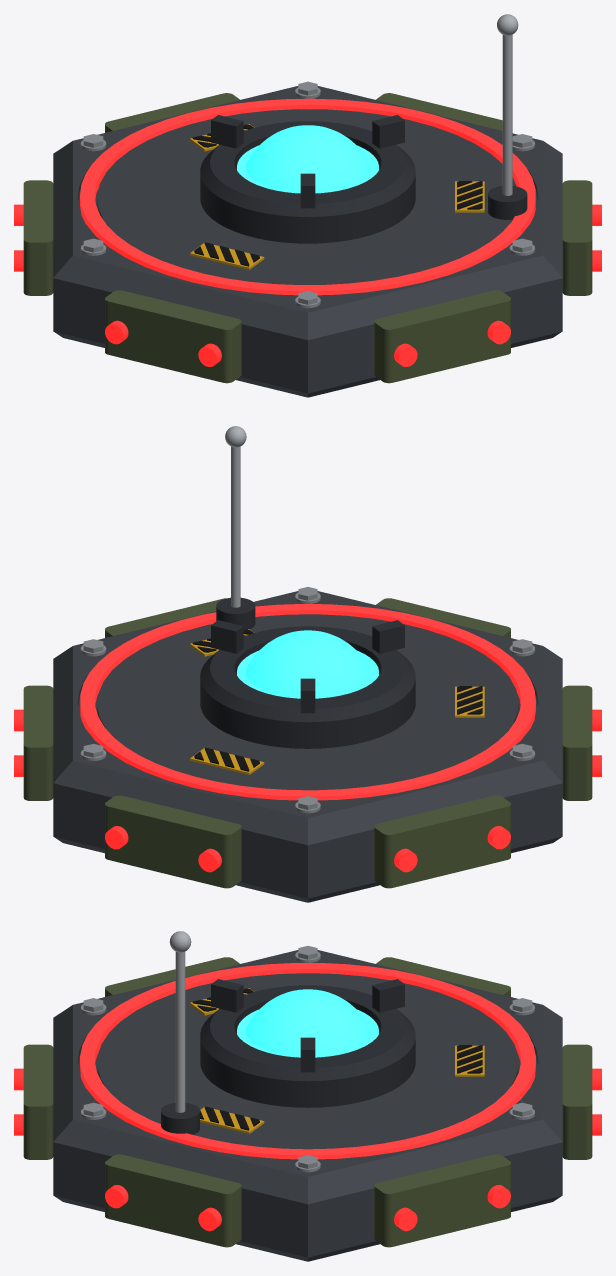
The model's file is gad_decoy.glb.
The picture shows the model from 3 angles, top to bottom: view 1: azimuth 30°, elevation 25°; view 2: azimuth 150°, elevation 25°; view 3: azimuth 270°, elevation 25°; orthographic projection.
Parts seen in each view (by area): view 1: hex_casing, explosive_charges, projector_hub, warning_ring, projector_lens, detonator_caps, bolts, antenna, hazard_decal_stripes, hazard_decals, antenna_base; view 2: hex_casing, explosive_charges, projector_hub, warning_ring, projector_lens, detonator_caps, bolts, antenna, hazard_decal_stripes, hazard_decals, antenna_base; view 3: hex_casing, explosive_charges, projector_hub, warning_ring, projector_lens, detonator_caps, bolts, antenna, hazard_decal_stripes, hazard_decals, antenna_base.
Part boxes in pixels (left/top/right/bottom): hex_casing: left=53, top=86, right=562, bottom=397; explosive_charges: left=23, top=93, right=592, bottom=383; projector_hub: left=200, top=115, right=415, bottom=243; warning_ring: left=80, top=98, right=535, bottom=295; projector_lens: left=237, top=125, right=378, bottom=193; detonator_caps: left=14, top=204, right=601, bottom=366; bolts: left=80, top=81, right=535, bottom=308; antenna: left=497, top=14, right=518, bottom=195; hazard_decal_stripes: left=192, top=124, right=482, bottom=266; hazard_decals: left=190, top=124, right=484, bottom=269; antenna_base: left=488, top=186, right=527, bottom=220; hex_casing: left=53, top=591, right=562, bottom=902; explosive_charges: left=23, top=598, right=592, bottom=888; projector_hub: left=200, top=620, right=415, bottom=748; warning_ring: left=80, top=604, right=535, bottom=800; projector_lens: left=237, top=630, right=378, bottom=698; detonator_caps: left=14, top=709, right=601, bottom=872; bolts: left=80, top=587, right=535, bottom=813; antenna: left=225, top=426, right=246, bottom=607; hazard_decal_stripes: left=192, top=629, right=482, bottom=771; hazard_decals: left=190, top=629, right=484, bottom=774; antenna_base: left=216, top=597, right=255, bottom=629; hex_casing: left=53, top=950, right=562, bottom=1261; explosive_charges: left=23, top=957, right=592, bottom=1247; projector_hub: left=200, top=979, right=415, bottom=1107; warning_ring: left=80, top=963, right=535, bottom=1159; projector_lens: left=237, top=989, right=378, bottom=1057; detonator_caps: left=14, top=1068, right=601, bottom=1231; bolts: left=81, top=946, right=534, bottom=1172; antenna: left=169, top=931, right=191, bottom=1112; hazard_decal_stripes: left=192, top=988, right=482, bottom=1130; hazard_decals: left=190, top=988, right=484, bottom=1133; antenna_base: left=161, top=1102, right=199, bottom=1134.
Size of the model in its own units: 0.12 by 0.0622 by 0.1199.
